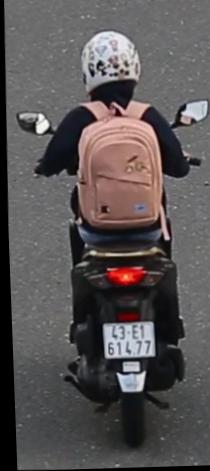LP: (98, 317, 155, 364)
helmet: (79, 25, 144, 94)
